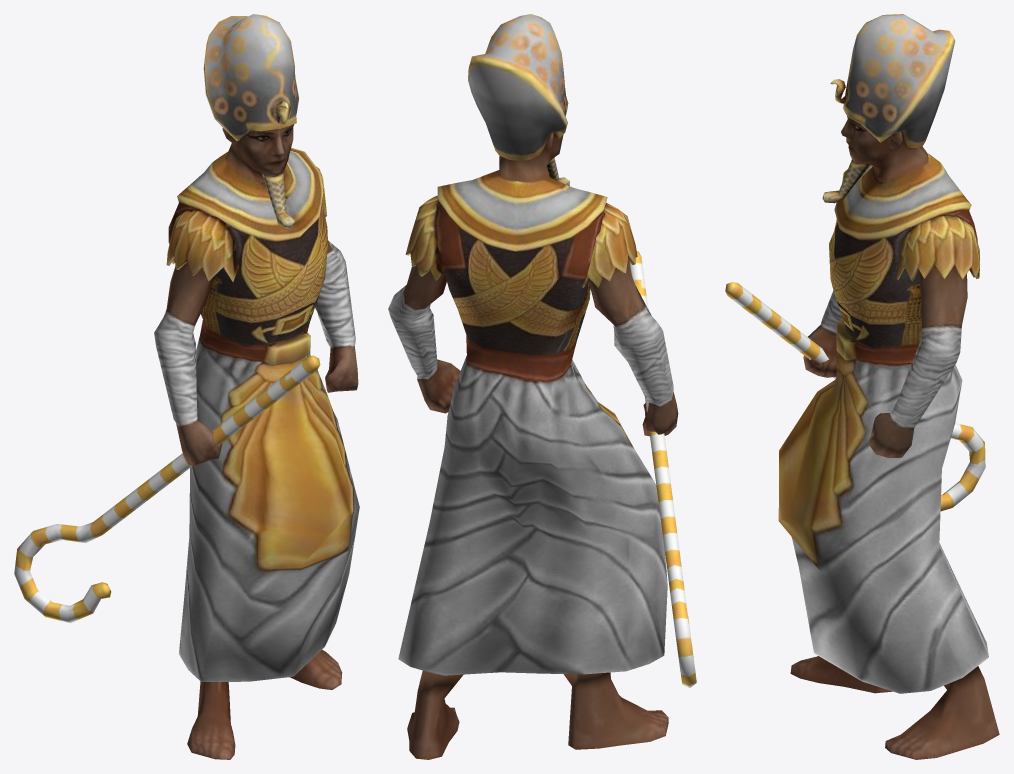
Rendered from 61-pharaoh.glb.
3 renders of one model, left to right at view 1: azimuth 30°, elevation 25°; view 2: azimuth 150°, elevation 25°; view 3: azimuth 270°, elevation 25°, orthographic. The views are drawn at different scales.
Bounding box in the file's own units: 1.28 × 2.71 × 0.9652.
Materials: 2 (2 with a texture image).
